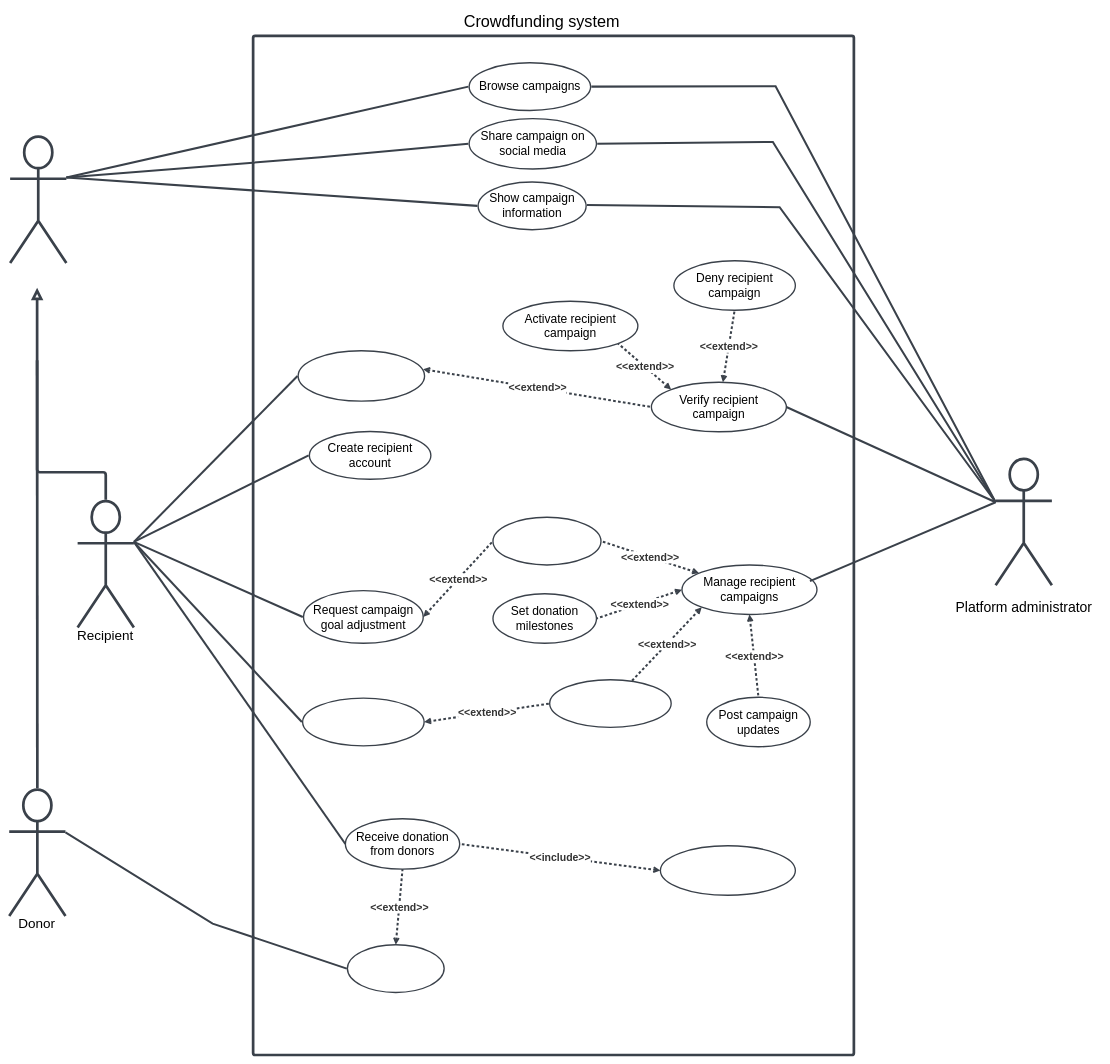
Image size: 1110x1064. Some labels were removed from this diagram. Here are the shapes that lost their labels. From the top down, the centre of each, then its label:
At [38,199]: "End user".
At [361,376]: "Apply for campaign creation".
At [546,540]: "Adjust campaign goals".
At [363,721]: "Request campaign end".
At [610,703]: "Change campaign state".
At [727,870]: "Charge service fee".
At [395,968]: "Donate to recipient".
